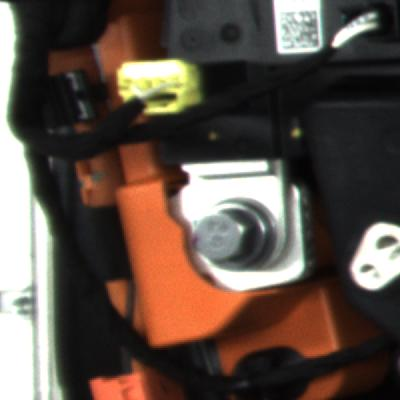nut_b: (186, 188, 287, 277)
